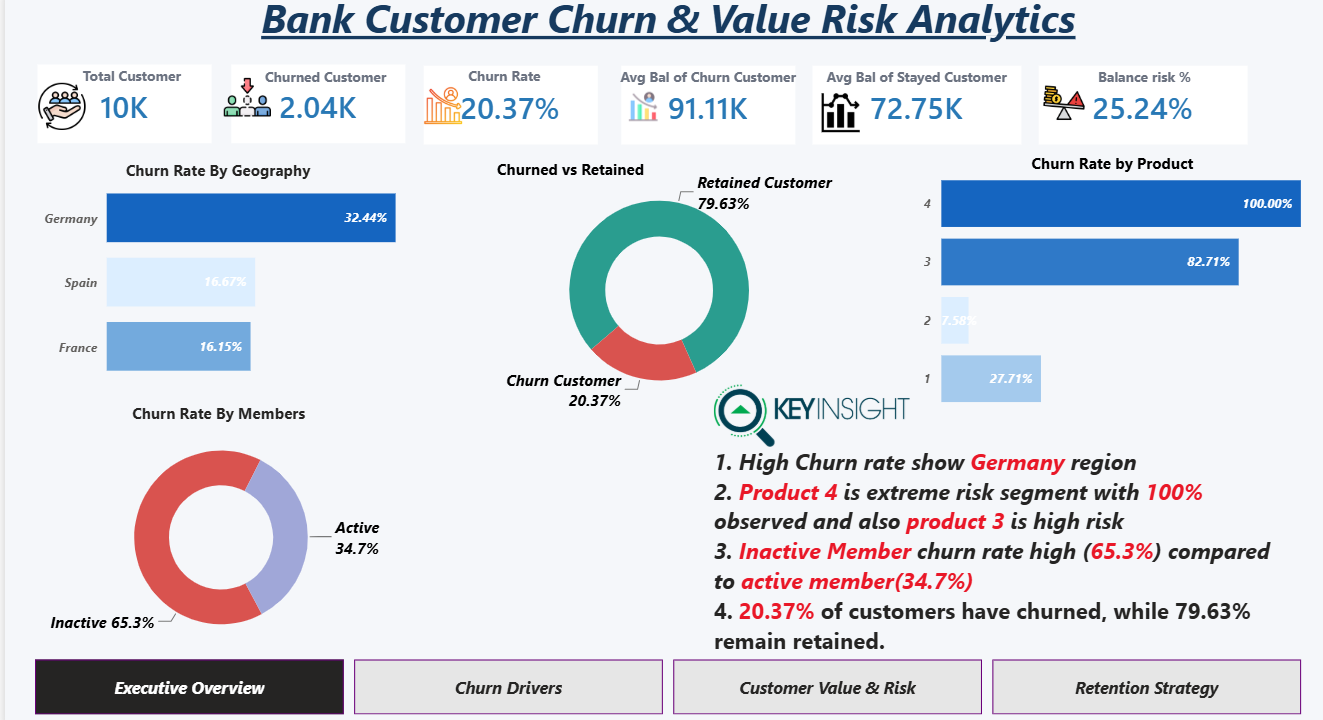

The dashboard page shown, as its layout file describes it:
{"tool":"powerbi","page":{"name":"Executive Overview","canvas":[1280,720],"ordinal":0},"visuals":[{"type":"textbox","box":[233.8,0,812.4,61.7],"z":0},{"type":"cardVisual","fields":{"Data":["Table.Total Customers"]},"box":[31.4,74.8,167.7,76],"z":1000},{"type":"cardVisual","fields":{"Data":["Table.Churned Customer"]},"box":[218.4,74.8,167.7,76],"z":2000},{"type":"textbox","box":[45.8,71.2,153.2,27.7],"z":3000},{"type":"textbox","box":[232.8,72.4,153.2,27.7],"z":4000},{"type":"cardVisual","fields":{"Data":["Table.Churn Rate"]},"box":[404.2,76,167.7,76],"z":5000},{"type":"textbox","box":[404.2,71.2,155.6,31.4],"z":6000},{"type":"cardVisual","fields":{"Data":["Table.Avg churn customer bal"]},"box":[594.8,76,167.7,76],"z":7000},{"type":"textbox","box":[577.9,72.4,201.5,60.3],"z":8000},{"type":"cardVisual","fields":{"Data":["Table.Avg Stayed Customer Balance"]},"box":[779.4,76,201.5,76],"z":9000},{"type":"textbox","box":[787.8,72.4,187,45.8],"z":10000},{"type":"cardVisual","fields":{"Data":["Table.balance risk %"]},"box":[997.7,76,201.5,76],"z":11000},{"type":"textbox","box":[1036.3,72.4,126.7,31.4],"z":12000},{"type":"barChart","fields":{"Category":["Bank_Churn.Geography"],"Y":["Table.Churn Rate"]},"box":[31.4,161.7,372.8,241.3],"z":13000},{"type":"donutChart","fields":{"Y":["CountNonNull(Bank_Churn.CustomerId)"],"Category":["Bank_Churn.churn customer status"]},"box":[441.6,172.5,380,241.3],"z":14000},{"type":"donutChart","fields":{"Y":["Table.Churn Rate"],"Category":["Bank_Churn.member active/inactive"]},"box":[31.4,413.8,354.7,235.3],"z":15000},{"type":"clusteredBarChart","fields":{"Y":["Table.Churn Rate"],"Category":["Bank_Churn.NumOfProducts"]},"box":[881.9,173.7,374,240.1],"z":16000},{"type":"textbox","box":[101.3,161.7,208.7,33.8],"z":17000},{"type":"textbox","box":[452.4,160.5,187,35],"z":18000},{"type":"textbox","box":[956.7,154.4,224.4,35],"z":19000},{"type":"textbox","box":[45.8,395.7,320.9,35],"z":20000},{"type":"image","box":[646.7,383.6,264.2,60.3],"z":21000},{"type":"textbox","box":[679.2,437.9,568.2,237.7],"z":22000},{"type":"pageNavigator","box":[29,649.1,1222.1,53.1],"z":23000},{"type":"image","box":[31.4,86.9,47.1,56.7],"z":23001},{"type":"image","box":[211.1,72.4,45.8,67.6],"z":23002},{"type":"image","box":[404.2,89.3,37.4,50.7],"z":23003},{"type":"image","box":[997.7,90.5,48.3,42.2],"z":23004},{"type":"image","box":[592.4,100.1,47.1,30.2],"z":23005},{"type":"image","box":[779.4,102.5,54.3,37.4],"z":23006}]}

Visuals, with their boxes on the page's 1280x720 design canvas (x1, y1, x2, y2). These are canvas units, not pixel positions in the 1323x720 screenshot, which may show the page scaled, cropped or inside an application window:
textbox: region(234, 0, 1046, 62)
cardVisual - Table.Total Customers: region(31, 75, 199, 151)
cardVisual - Table.Churned Customer: region(218, 75, 386, 151)
textbox: region(46, 71, 199, 99)
textbox: region(233, 72, 386, 100)
cardVisual - Table.Churn Rate: region(404, 76, 572, 152)
textbox: region(404, 71, 560, 103)
cardVisual - Table.Avg churn customer bal: region(595, 76, 762, 152)
textbox: region(578, 72, 779, 133)
cardVisual - Table.Avg Stayed Customer Balance: region(779, 76, 981, 152)
textbox: region(788, 72, 975, 118)
cardVisual - Table.balance risk %: region(998, 76, 1199, 152)
textbox: region(1036, 72, 1163, 104)
barChart - Bank_Churn.Geography x Table.Churn Rate: region(31, 162, 404, 403)
donutChart - CountNonNull(Bank_Churn.CustomerId) x Bank_Churn.churn customer status: region(442, 172, 822, 414)
donutChart - Table.Churn Rate x Bank_Churn.member active/inactive: region(31, 414, 386, 649)
clusteredBarChart - Table.Churn Rate x Bank_Churn.NumOfProducts: region(882, 174, 1256, 414)
textbox: region(101, 162, 310, 196)
textbox: region(452, 160, 639, 196)
textbox: region(957, 154, 1181, 189)
textbox: region(46, 396, 367, 431)
image: region(647, 384, 911, 444)
textbox: region(679, 438, 1247, 676)
pageNavigator: region(29, 649, 1251, 702)
image: region(31, 87, 78, 144)
image: region(211, 72, 257, 140)
image: region(404, 89, 442, 140)
image: region(998, 90, 1046, 133)
image: region(592, 100, 640, 130)
image: region(779, 102, 834, 140)
